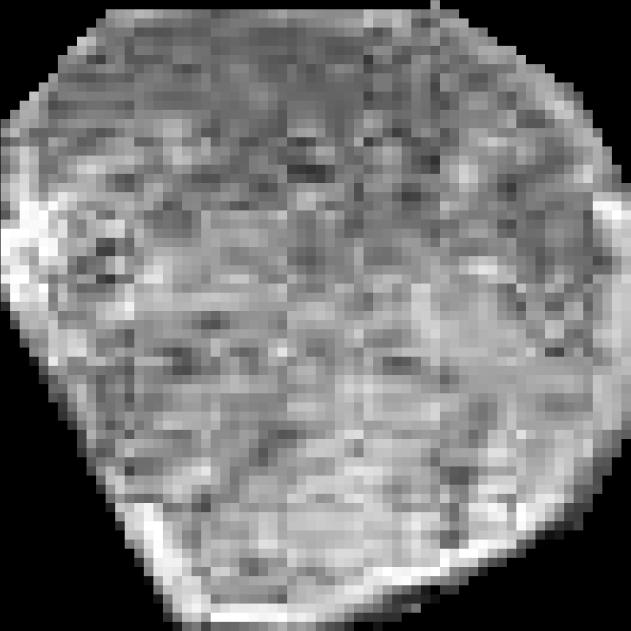tumor_good_chance: (1, 0, 631, 631)
